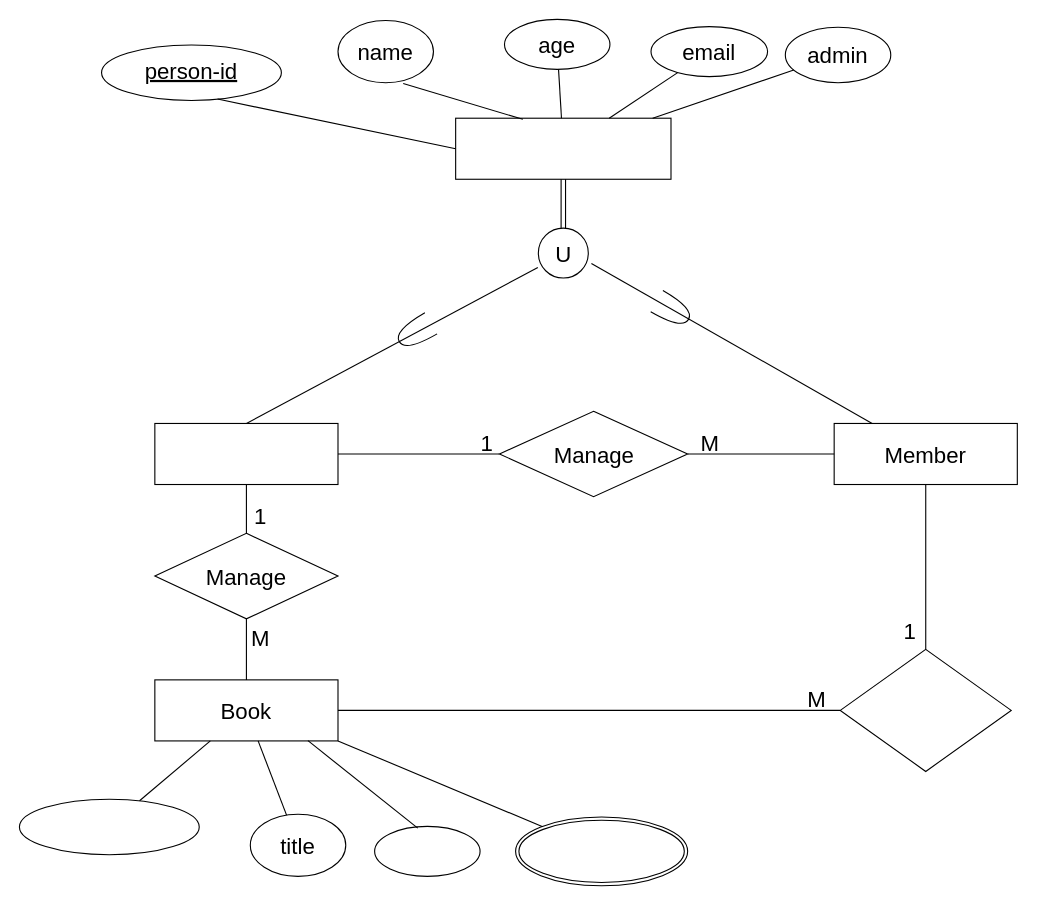
The diagram is 1037 pixels wide and 906 high, and some of its shapes have lost their labels. The box of each missing label's shape, as (x1, y1, x2, y2) in pixels:
author: (374, 825, 480, 876)
book-id: (18, 798, 199, 855)
Borrow: (839, 648, 1011, 771)
Category: (514, 816, 688, 886)
Librarian: (154, 422, 338, 485)
Person: (455, 117, 671, 179)
